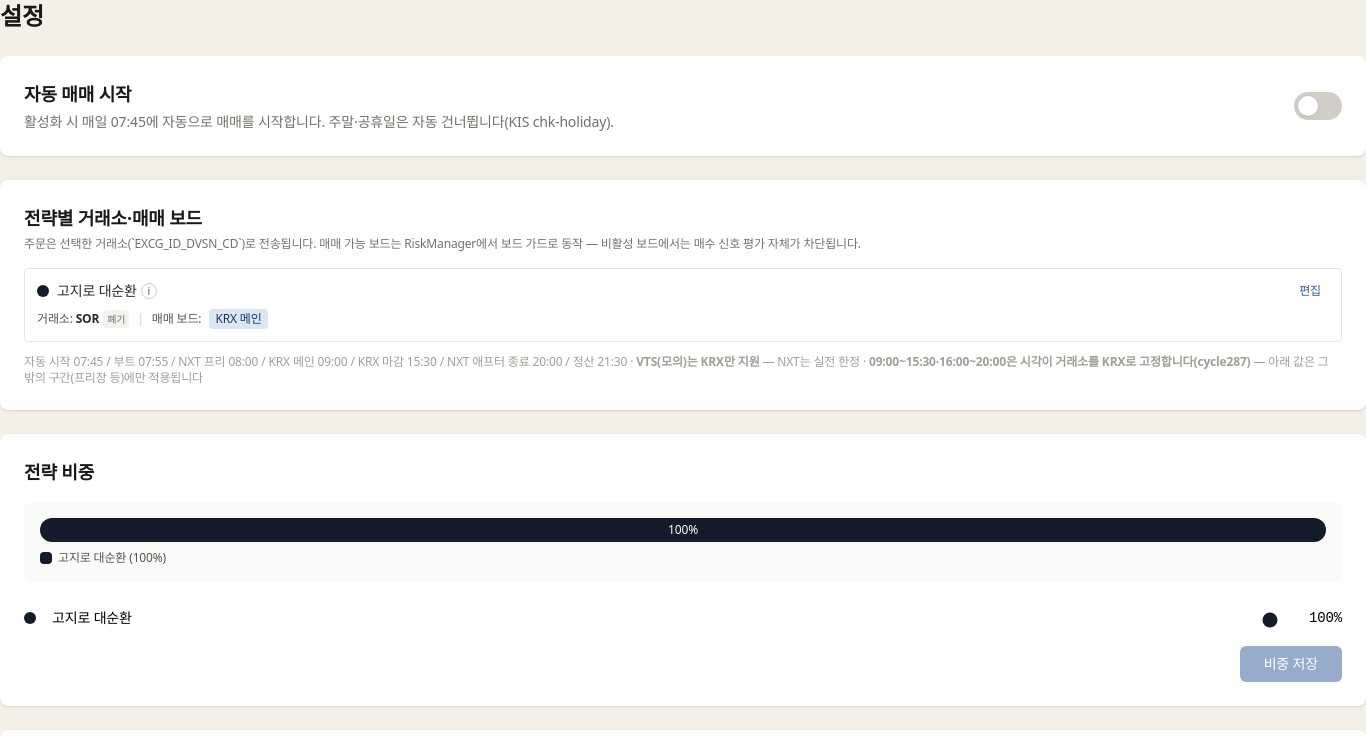
Test: cycle287 — ExchangeBoardRow 렌더 (SOR 저장값 폐기 배지) › 편집 중 KRX 를 선택하면 저장 시 exchange 만 바뀐 필드로 전송된다 (tradable_boards 미변경분은 안 보낸다)
The width and height of the screenshot is (1366, 755).
Click the button "편집" at (1310, 291), box [1291,281,1329,301]
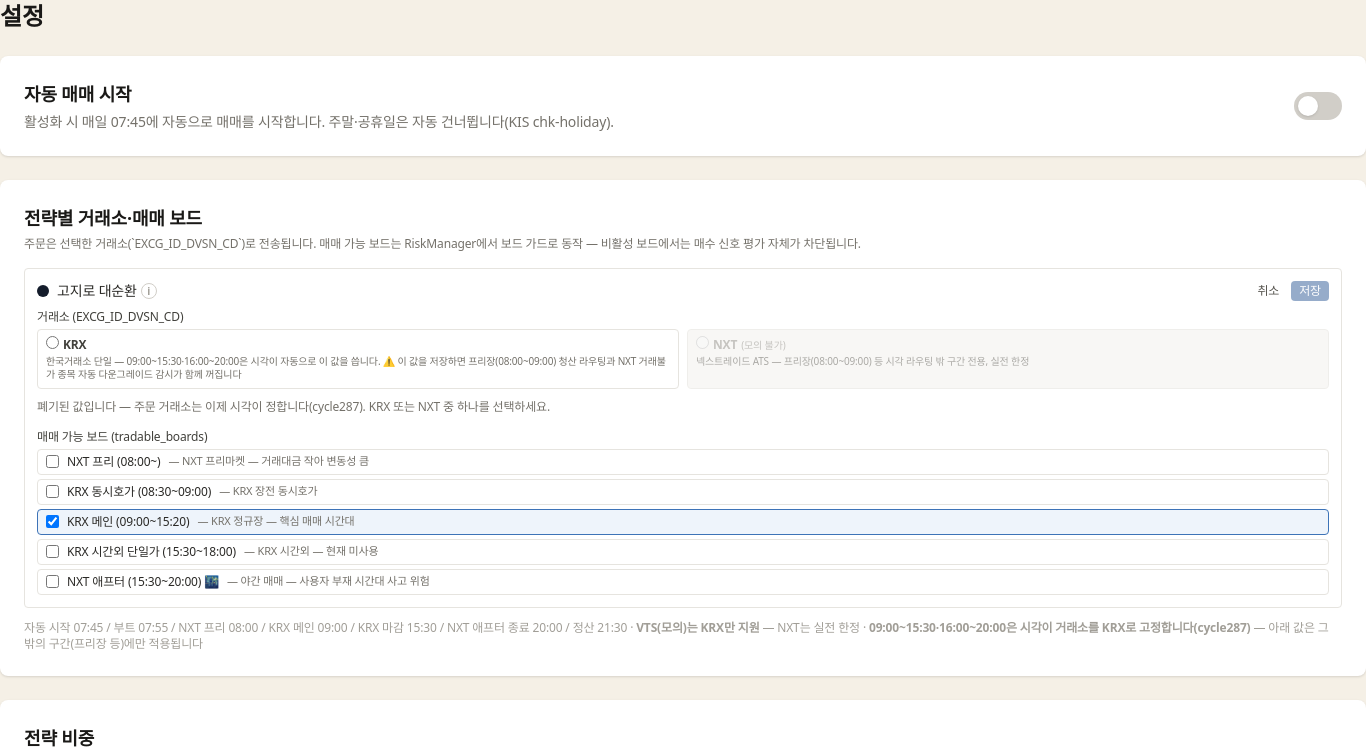
Click the 1st radio button at (52, 342), box [46,336,59,349]
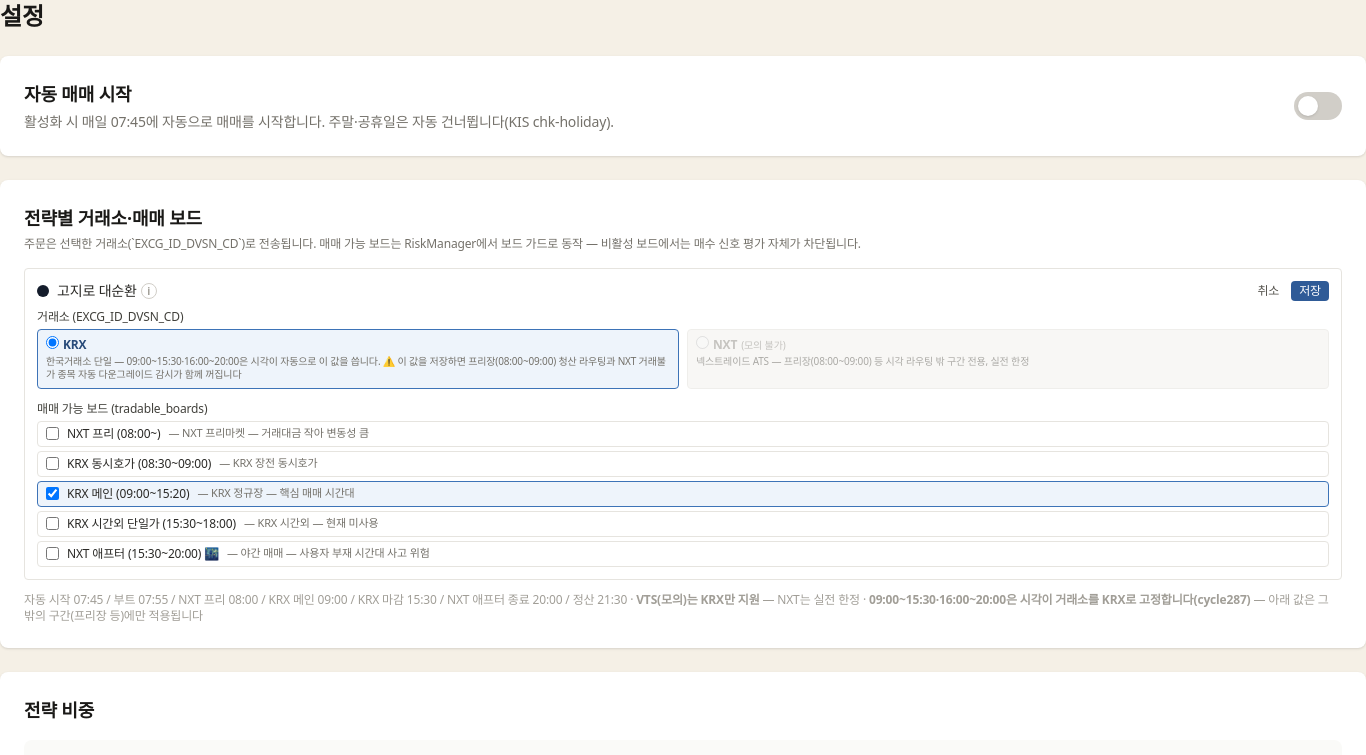
Click the button "저장" at (1310, 291), box [1291,281,1329,301]
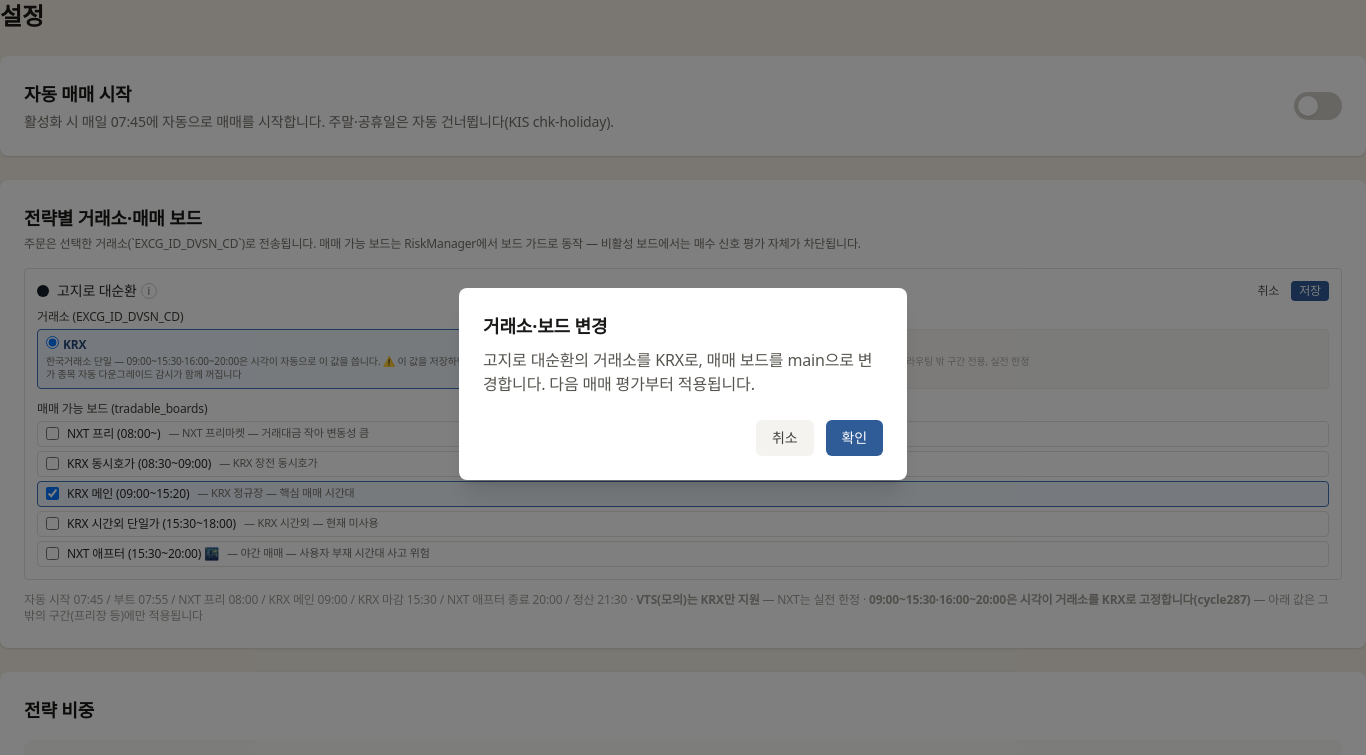
Click the button "확인" at (854, 438), box [826,420,883,456]
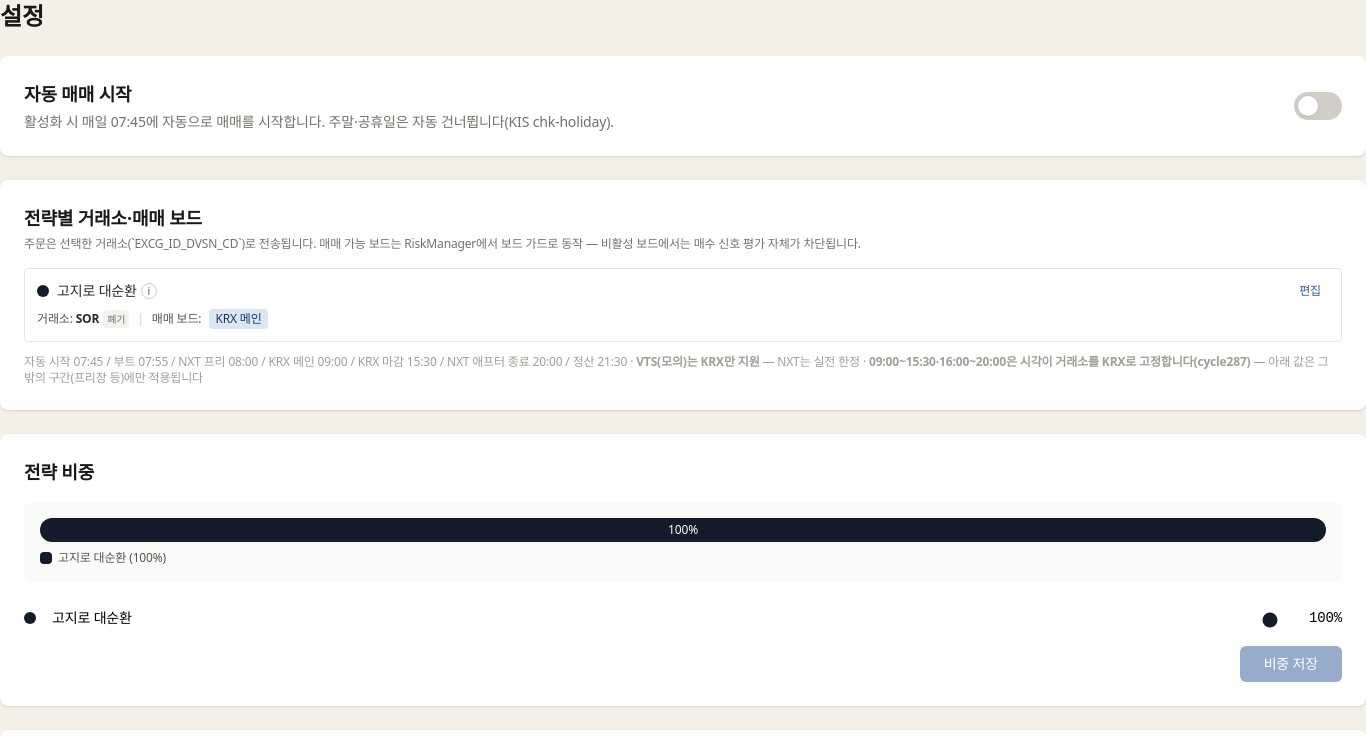
Expected: the button "편집" is shown, [1291,281,1329,301]
